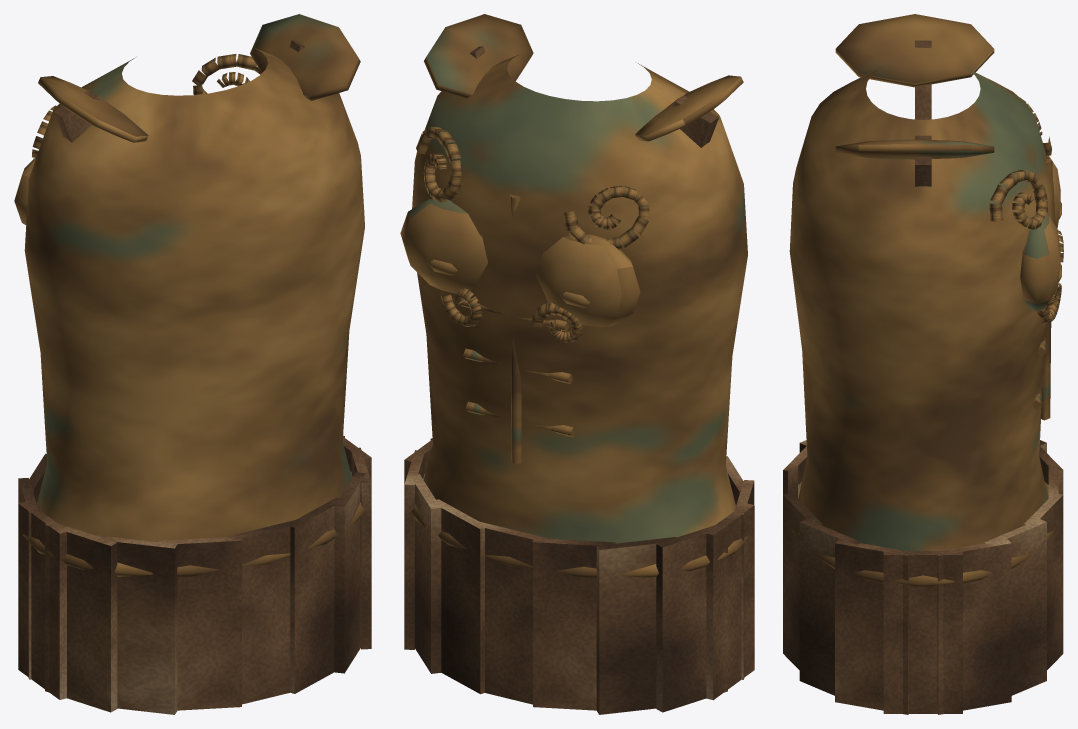
File: corazza_bronzo.gltf
3 views of the same model, side by side, from view 1: azimuth 30°, elevation 25°; view 2: azimuth 150°, elevation 25°; view 3: azimuth 270°, elevation 25° (orthographic). The views are drawn at different scales.
Visible parts, largest first — view 1: corazza_bronzo; view 2: corazza_bronzo; view 3: corazza_bronzo.
Part boxes in pixels (left/top/right/bottom): corazza_bronzo: left=14, top=14, right=371, bottom=714; corazza_bronzo: left=400, top=14, right=754, bottom=714; corazza_bronzo: left=783, top=14, right=1063, bottom=714.
Bounding box in the file's own units: 0.424 × 0.7428 × 0.3362.
Materials: 2 (2 with a texture image).
